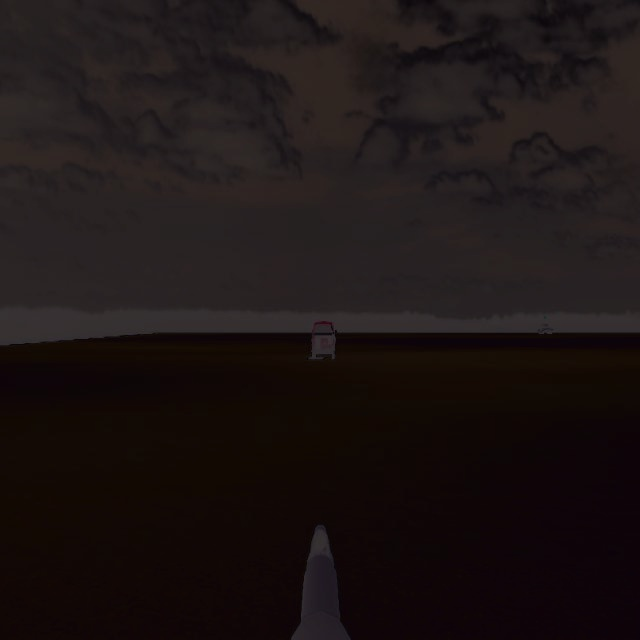green_car: (307, 319, 337, 360)
